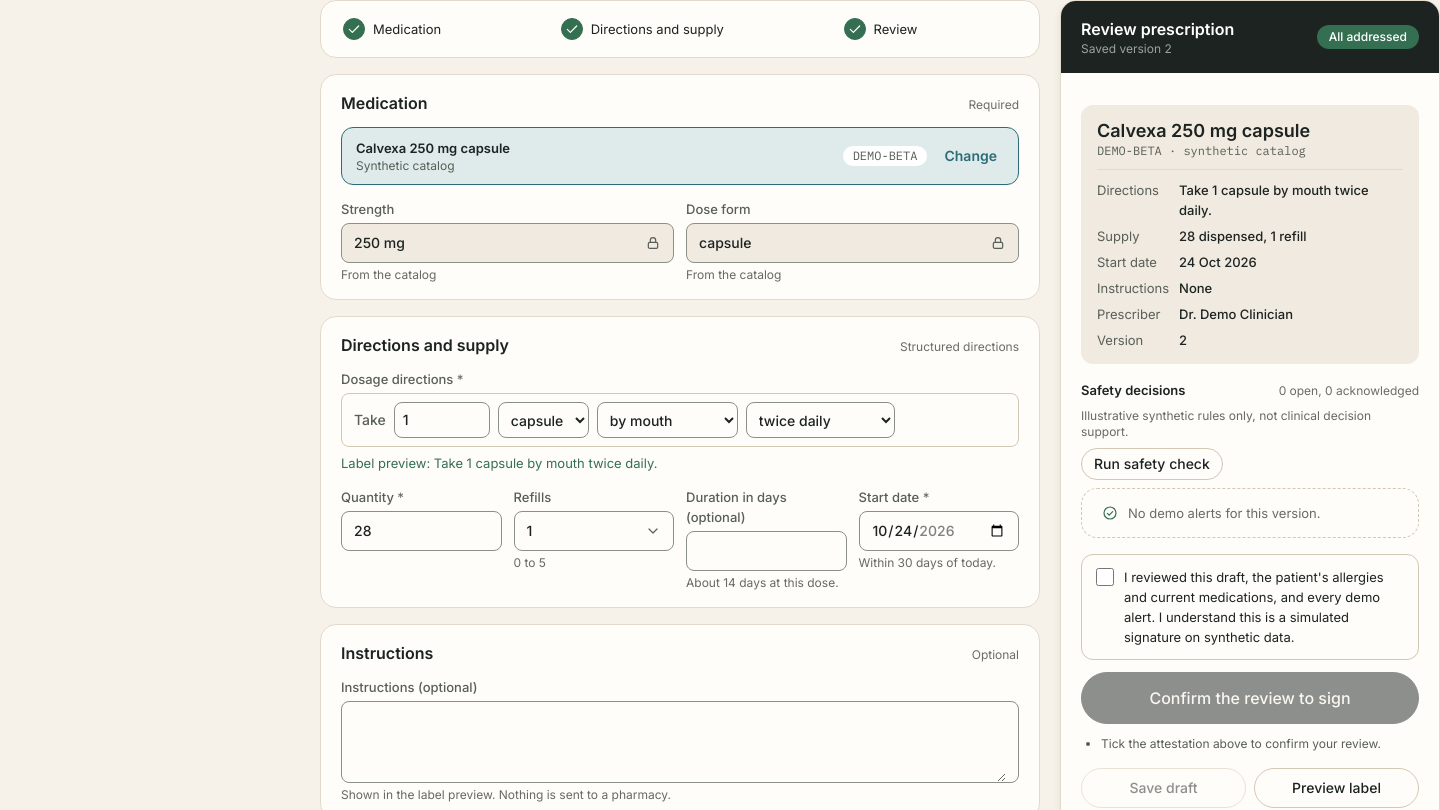
Test: DraftWorkspace › shows the saved version and enables signing once the review is confirmed
expect the text "Take 1 capsule by mouth twice daily." below "· synthetic catalog" is shown: met, box [1179,182,1369,218]
expect the button with test id "sign-button" is disabled: met, box [1081,672,1419,724]
Click the checkbox at [1105, 577], box [1096,568,1114,586]
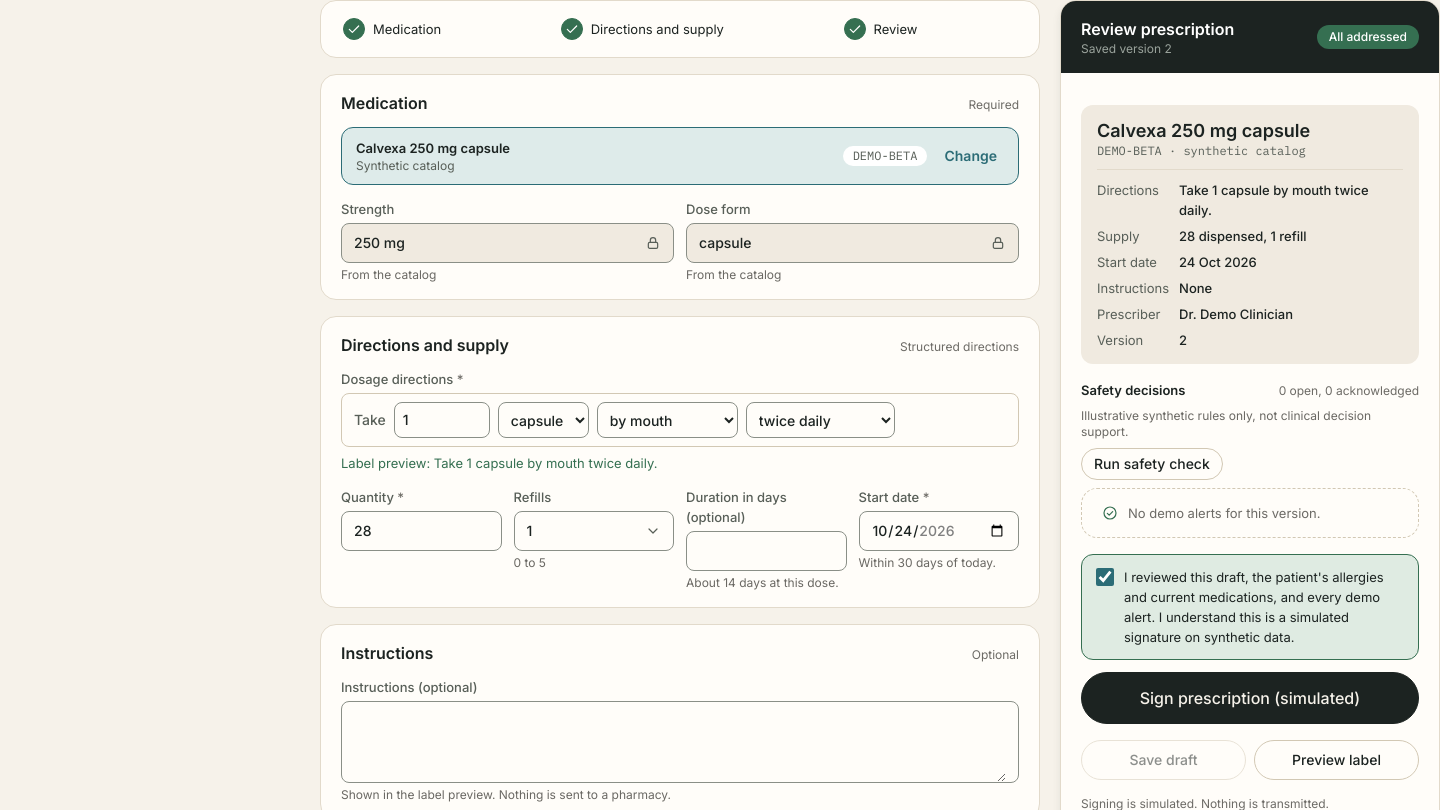
expect the button "Save draft" is disabled: met, box [1081,740,1246,780]
expect the button with test id "sign-button" reads "Sign prescription (simulated)": met, box [1081,672,1419,724]
expect the button with test id "sign-button" is enabled: met, box [1081,672,1419,724]
